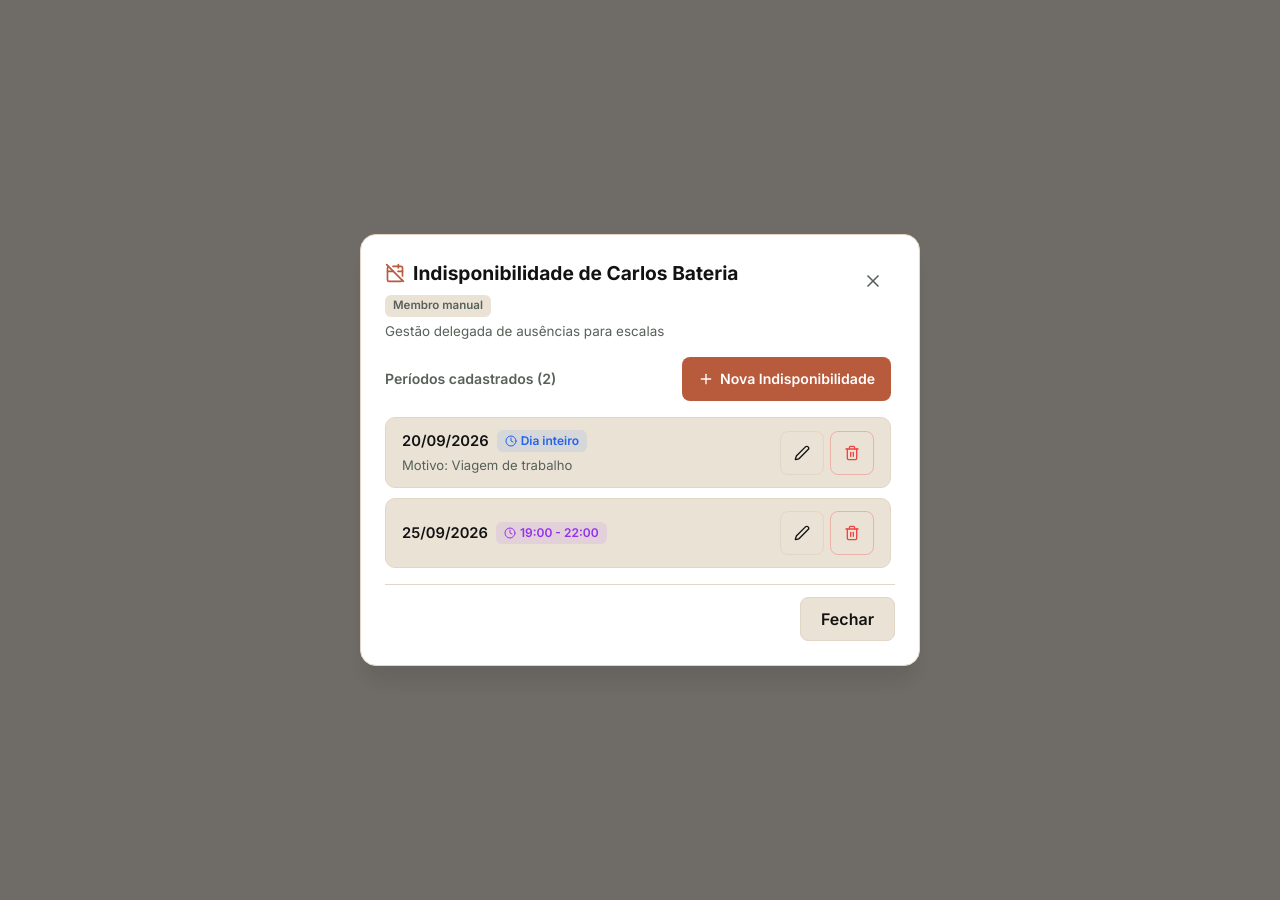
Test: ManualMemberAvailabilityModal Component (Phase 6D-2) › 9. cancela o formulário de edição via Escape sem fechar o modal principal
Click the button named "Editar indisponibilidade de 20/09/2026". click: click(802, 453)
box: x1=780 y1=431 x2=824 y2=475
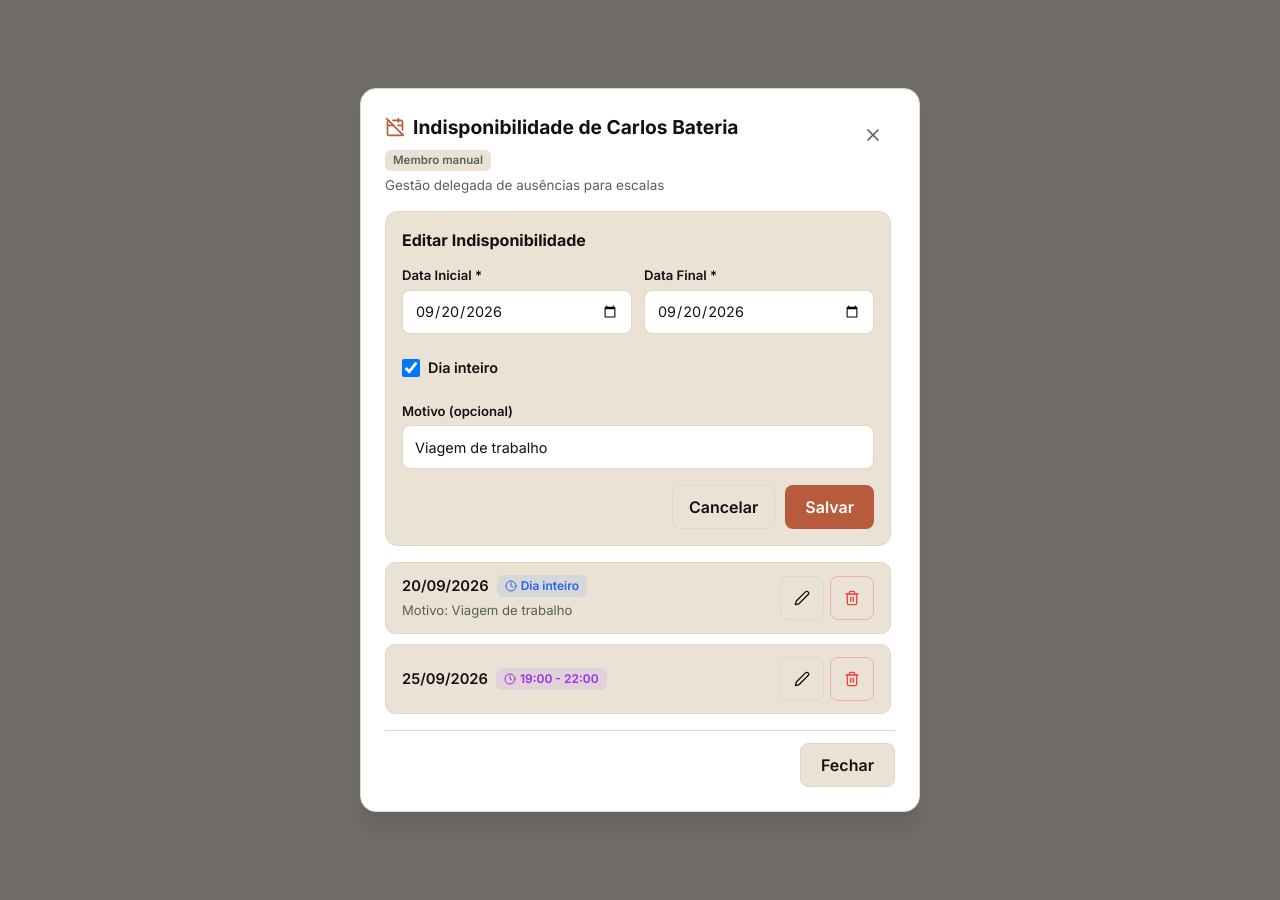
Expected: the heading "Editar Indisponibilidade" is shown, x1=402 y1=228 x2=586 y2=252
Press Escape
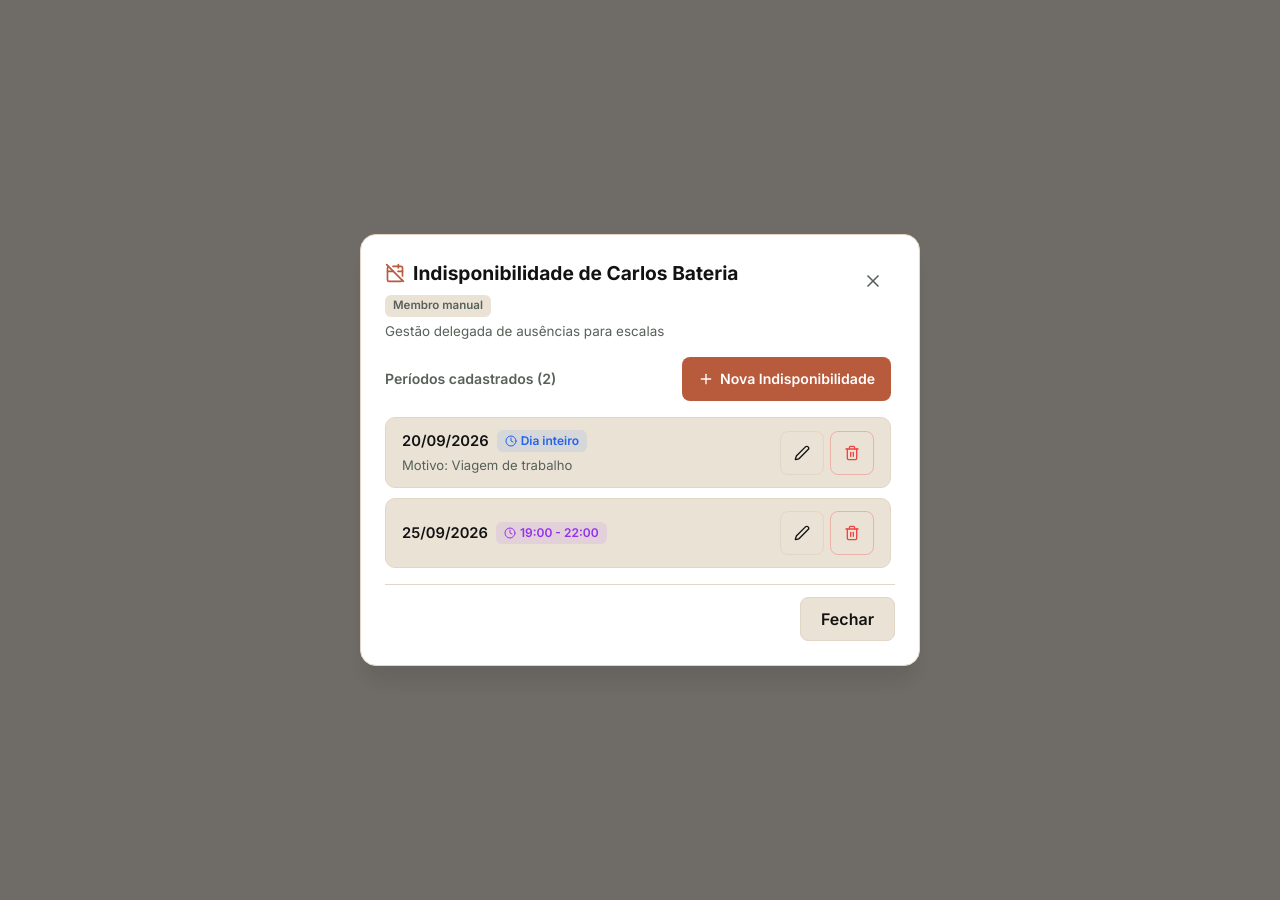
Expected: the heading "Editar Indisponibilidade" is gone
